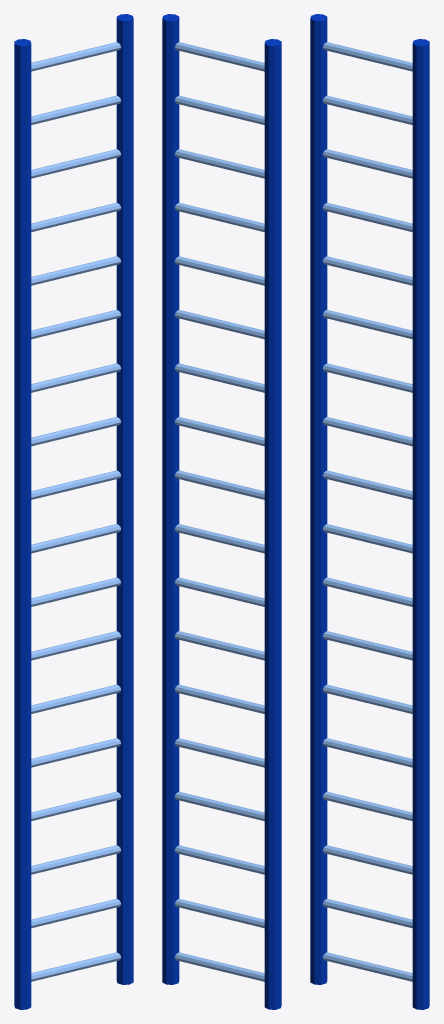
File: Low_Poly_Ladder_02_Tall.obj
3 views of the same model, side by side, from view 1: azimuth 30°, elevation 25°; view 2: azimuth 150°, elevation 25°; view 3: azimuth 330°, elevation 25° (orthographic).
Visible parts, largest first — view 1: Low_Poly_Ladder_02_Tall_Circle.001; view 2: Low_Poly_Ladder_02_Tall_Circle.001; view 3: Low_Poly_Ladder_02_Tall_Circle.001.
Boxes of the visible parts, <box> form: Low_Poly_Ladder_02_Tall_Circle.001: <box>14,14,133,1009</box>; Low_Poly_Ladder_02_Tall_Circle.001: <box>162,14,281,1009</box>; Low_Poly_Ladder_02_Tall_Circle.001: <box>310,14,429,1009</box>.
Size of the model in its own units: 2.3 by 18 by 0.3.
